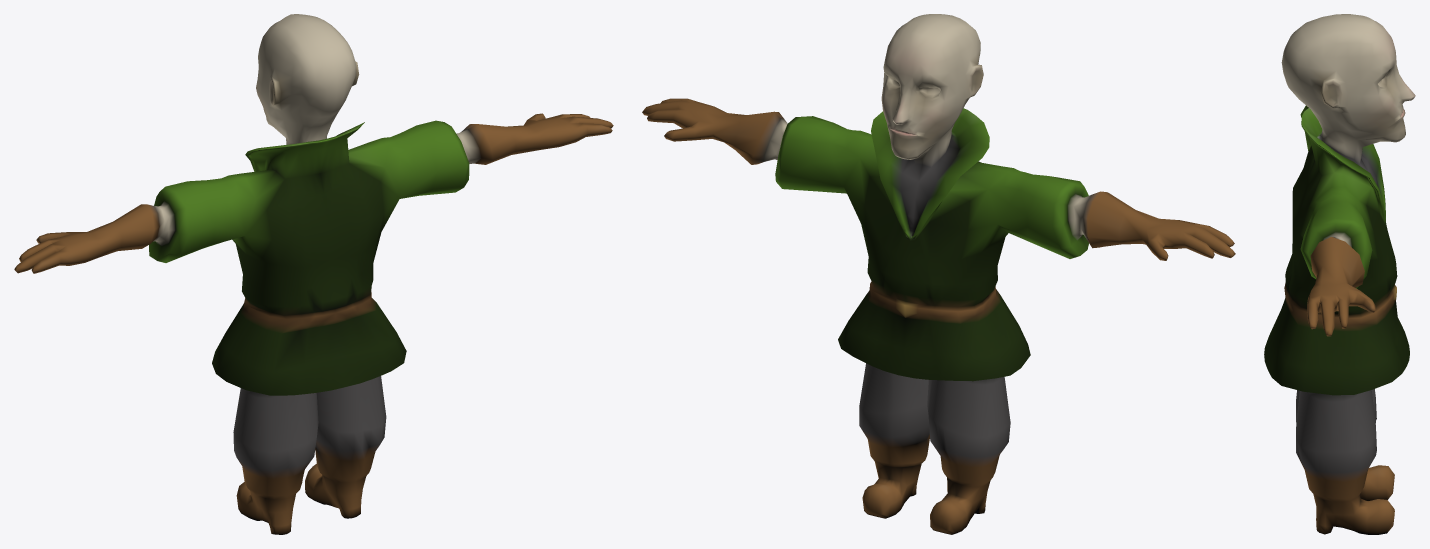
Rendered from guyBody.fbx.
The picture shows the model from 3 angles, left to right: view 1: azimuth 30°, elevation 25°; view 2: azimuth 150°, elevation 25°; view 3: azimuth 270°, elevation 25°; orthographic projection.
Visible parts, largest first — view 1: GuyBody; view 2: GuyBody; view 3: GuyBody.
Boxes of the visible parts, x1,y1,x2,y2 form: GuyBody: [14, 14, 613, 534]; GuyBody: [642, 14, 1235, 534]; GuyBody: [1264, 14, 1415, 534].
Bounding box in the file's own units: 216 × 171 × 47.47.
